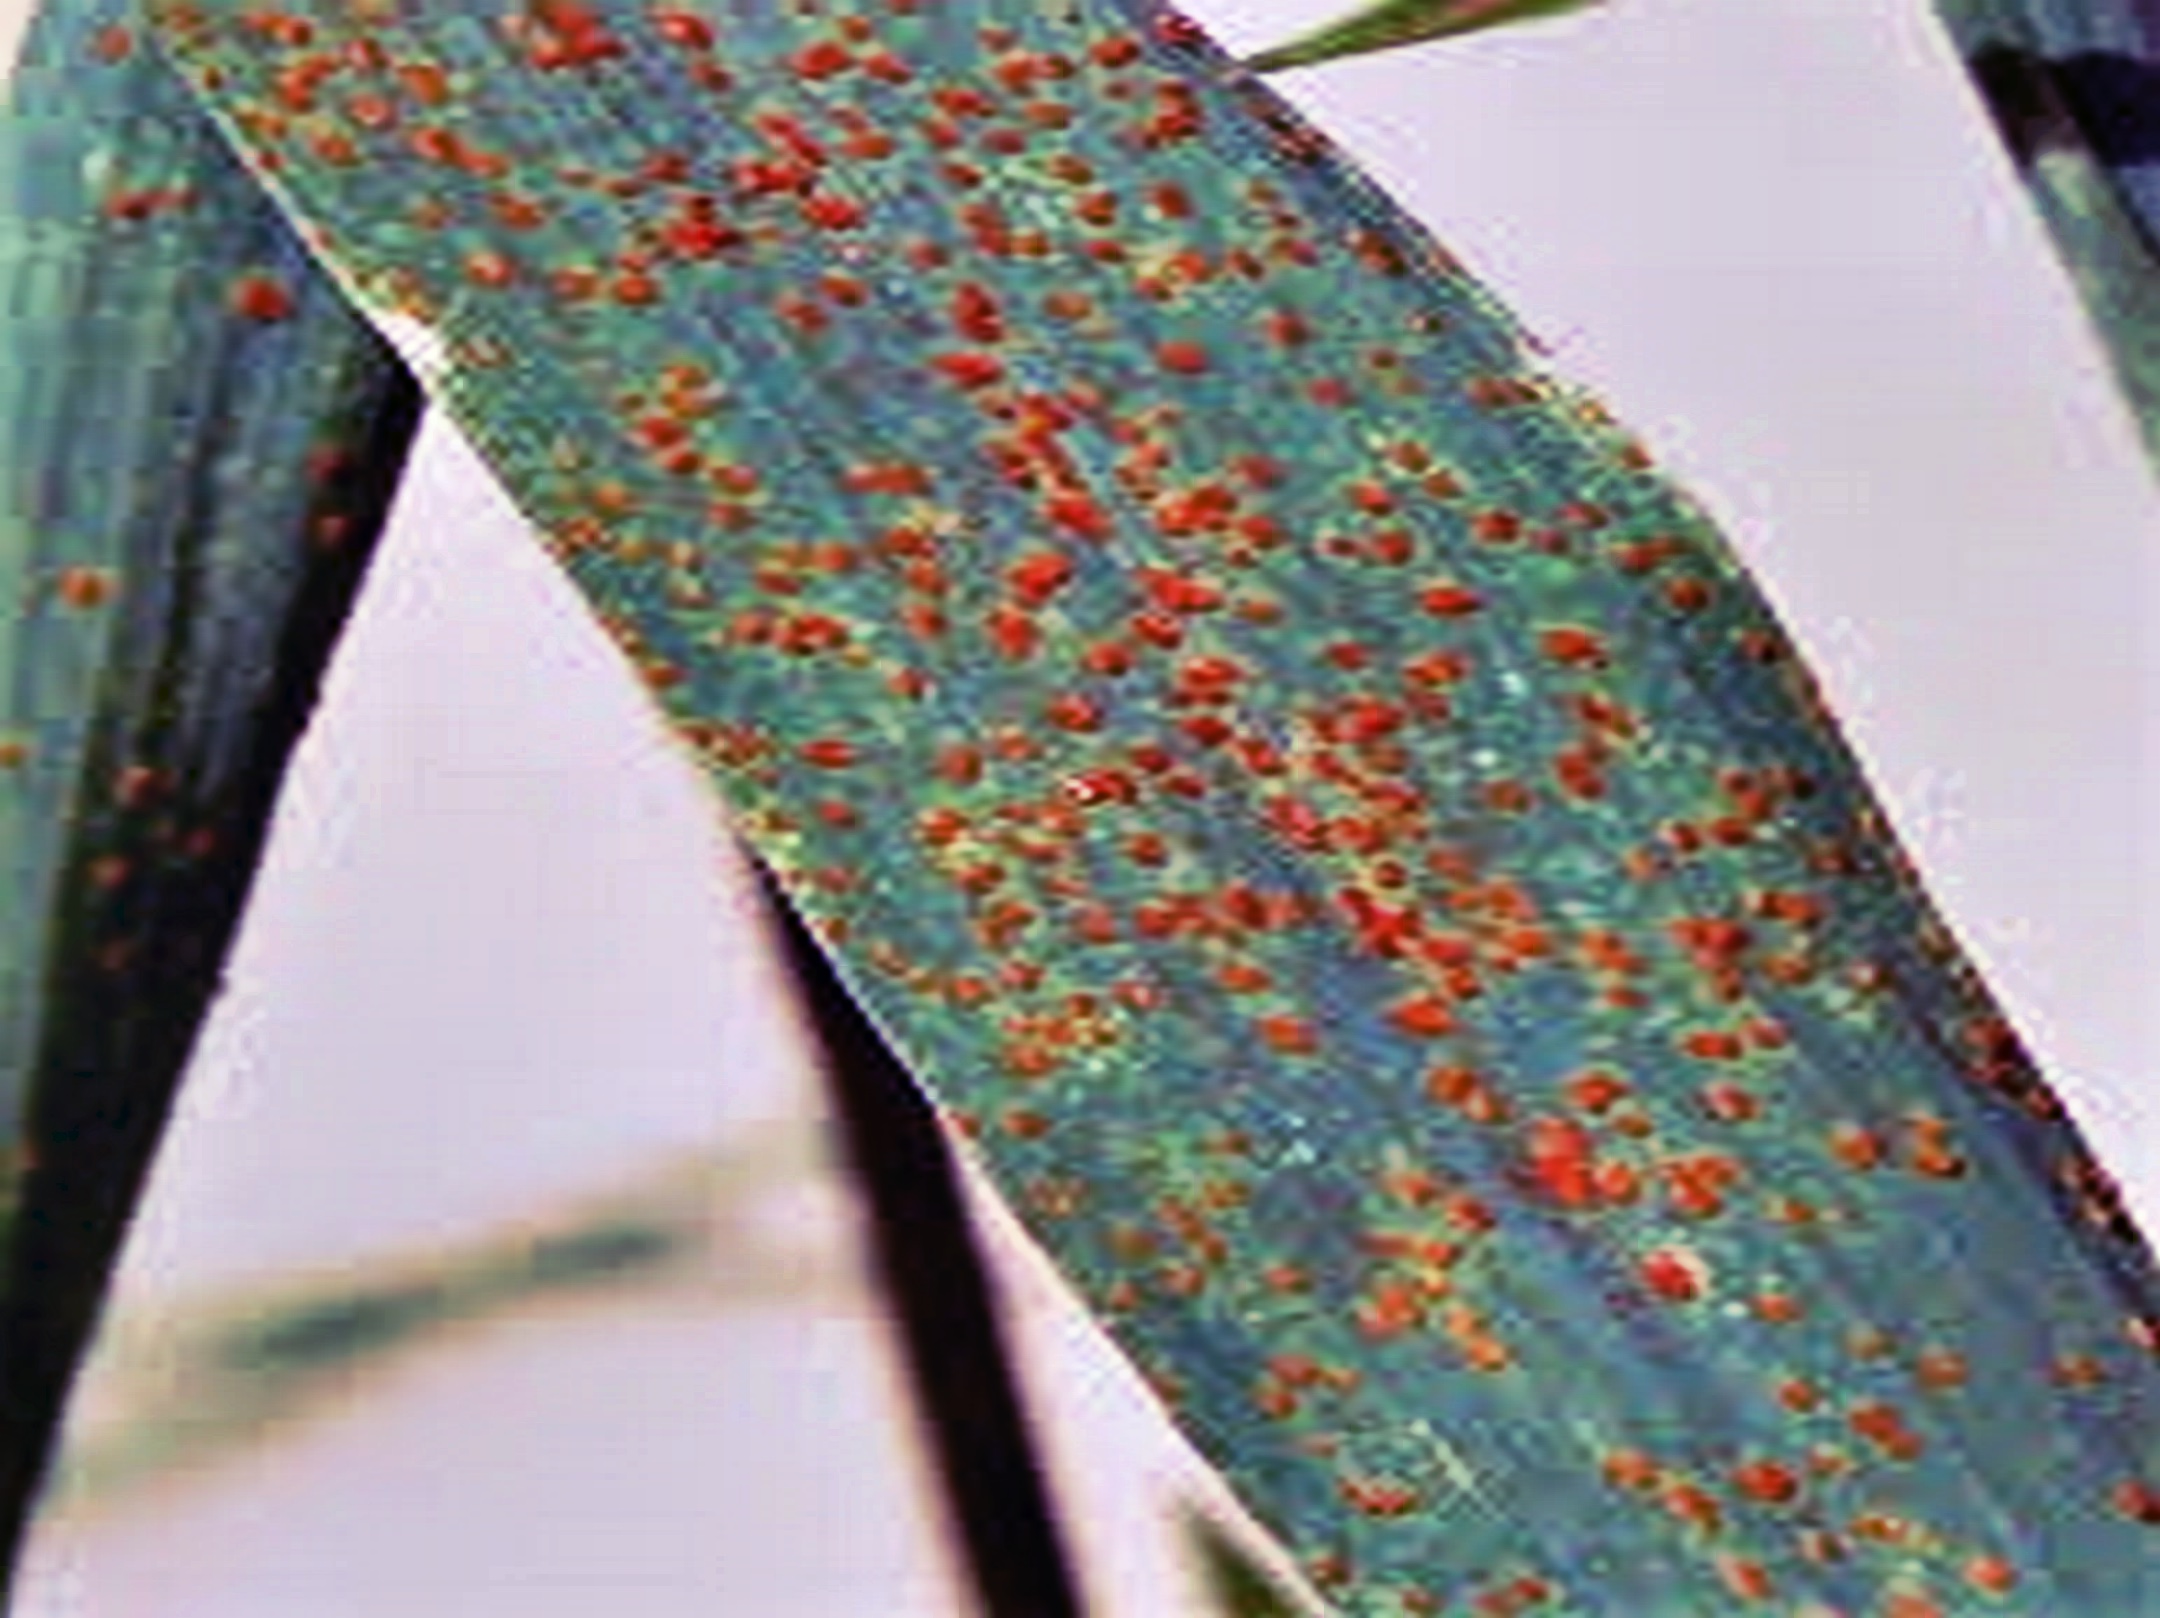Leaf Rust: (478, 109, 2152, 1604)
